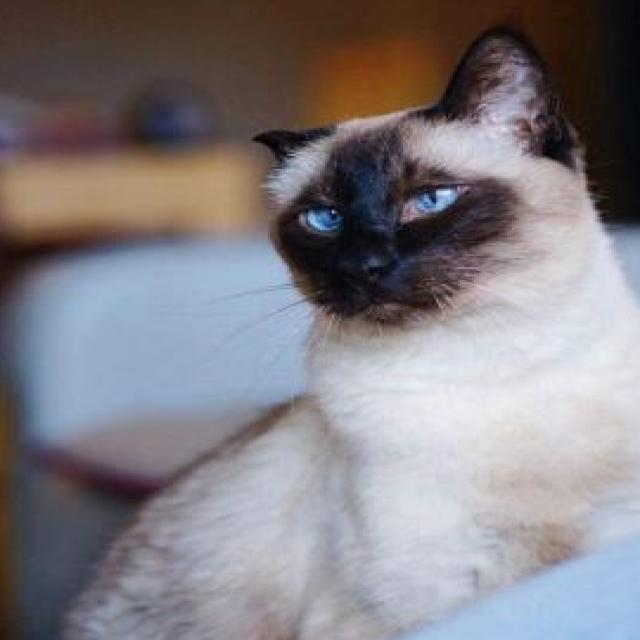Siamese: (42, 13, 640, 640)
